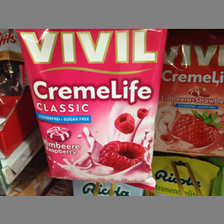candy: (17, 29, 167, 186)
